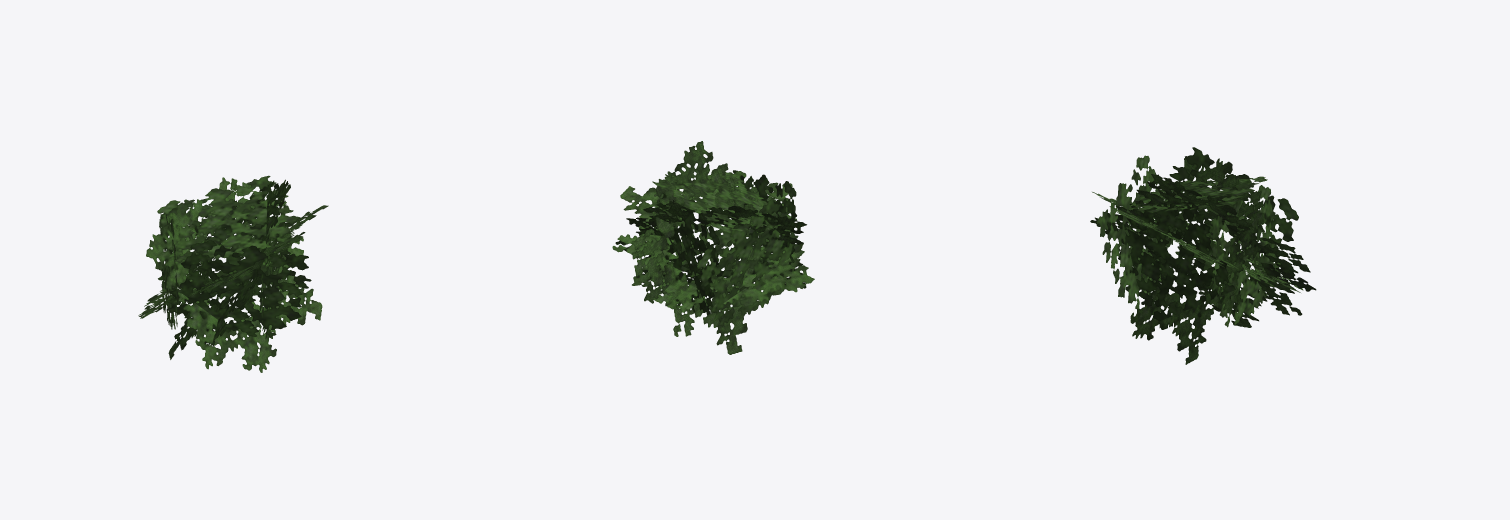
Rendered from oak_leaves_2.obj.
The picture shows the model from 3 angles, left to right: view 1: azimuth 30°, elevation 25°; view 2: azimuth 150°, elevation 25°; view 3: azimuth 270°, elevation 25°; orthographic projection. The views are drawn at different scales.
Visible parts, largest first — view 1: cube; view 2: cube; view 3: cube.
Part boxes in pixels (bbox=[...]): cube: bbox=[138, 175, 328, 372]; cube: bbox=[612, 141, 814, 354]; cube: bbox=[1090, 147, 1316, 364].
Bounding box in the file's own units: 3.93 × 3.52 × 3.86.
